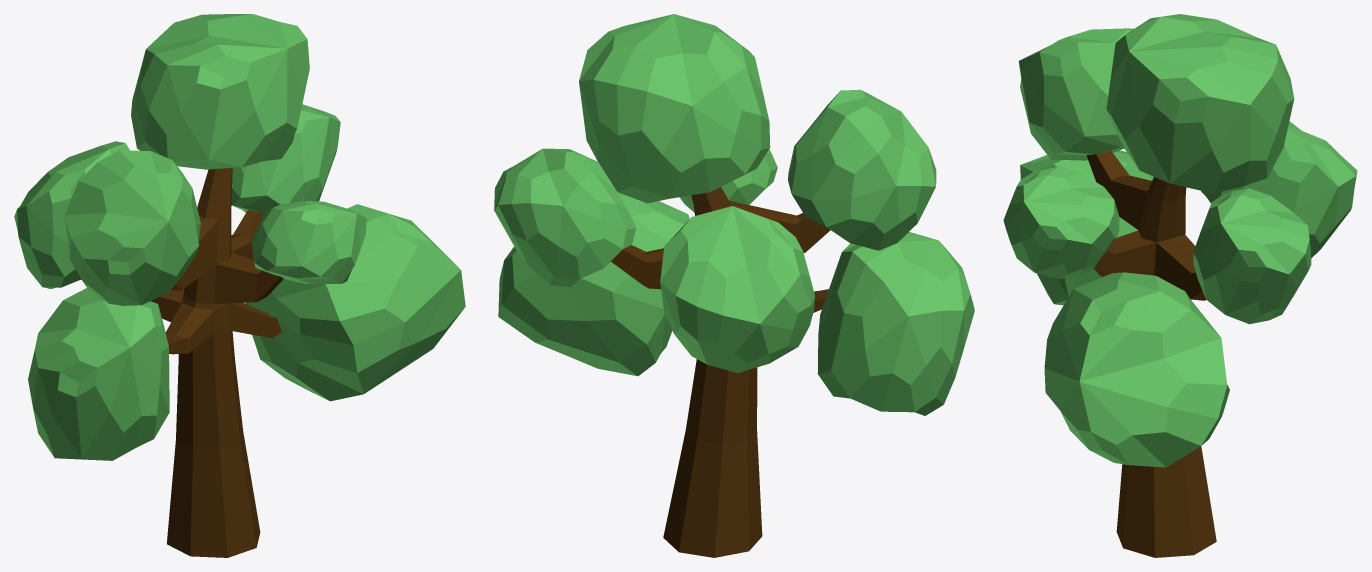
The model's file is Tree.fbx.
The picture shows the model from 3 angles, left to right: view 1: azimuth 30°, elevation 25°; view 2: azimuth 150°, elevation 25°; view 3: azimuth 270°, elevation 25°; orthographic projection. The views are drawn at different scales.
Parts seen in each view (by area): view 1: Tree; view 2: Tree; view 3: Tree.
Boxes of the visible parts, bbox=[...] form: Tree: bbox=[14, 14, 465, 557]; Tree: bbox=[494, 14, 974, 557]; Tree: bbox=[1003, 14, 1357, 557].
Size of the model in its own units: 5.02 by 5.49 by 3.39.
